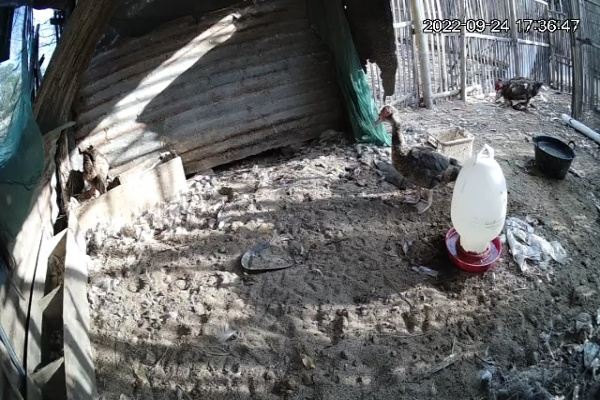Kawin: (485, 63, 547, 116)
